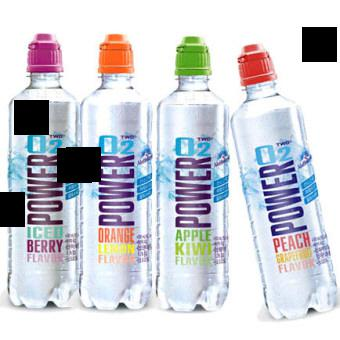powerO2_orange: (79, 26, 156, 315)
